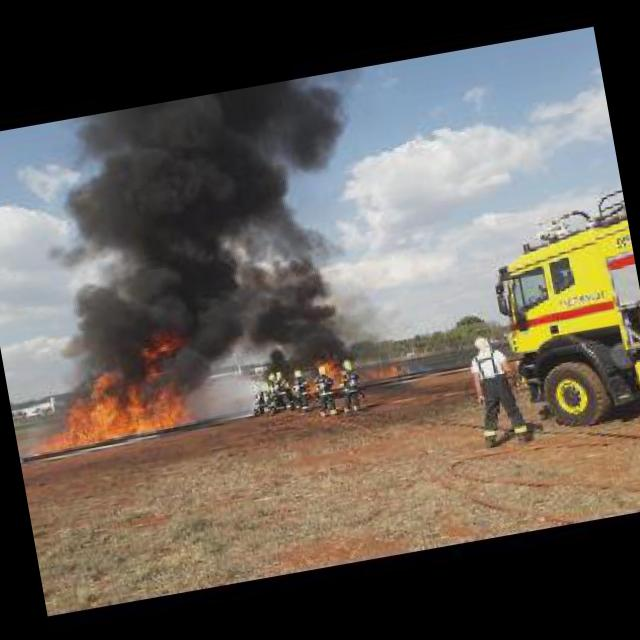fire: (18, 362, 192, 454), (134, 328, 182, 362), (316, 352, 342, 387), (362, 358, 400, 381)
smoke: (23, 69, 397, 396)
